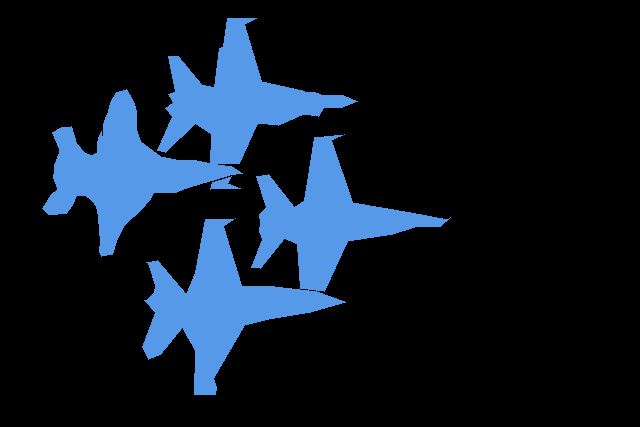Airplane: (142, 218, 346, 395), (157, 18, 358, 189), (42, 89, 243, 256), (251, 134, 450, 292)
